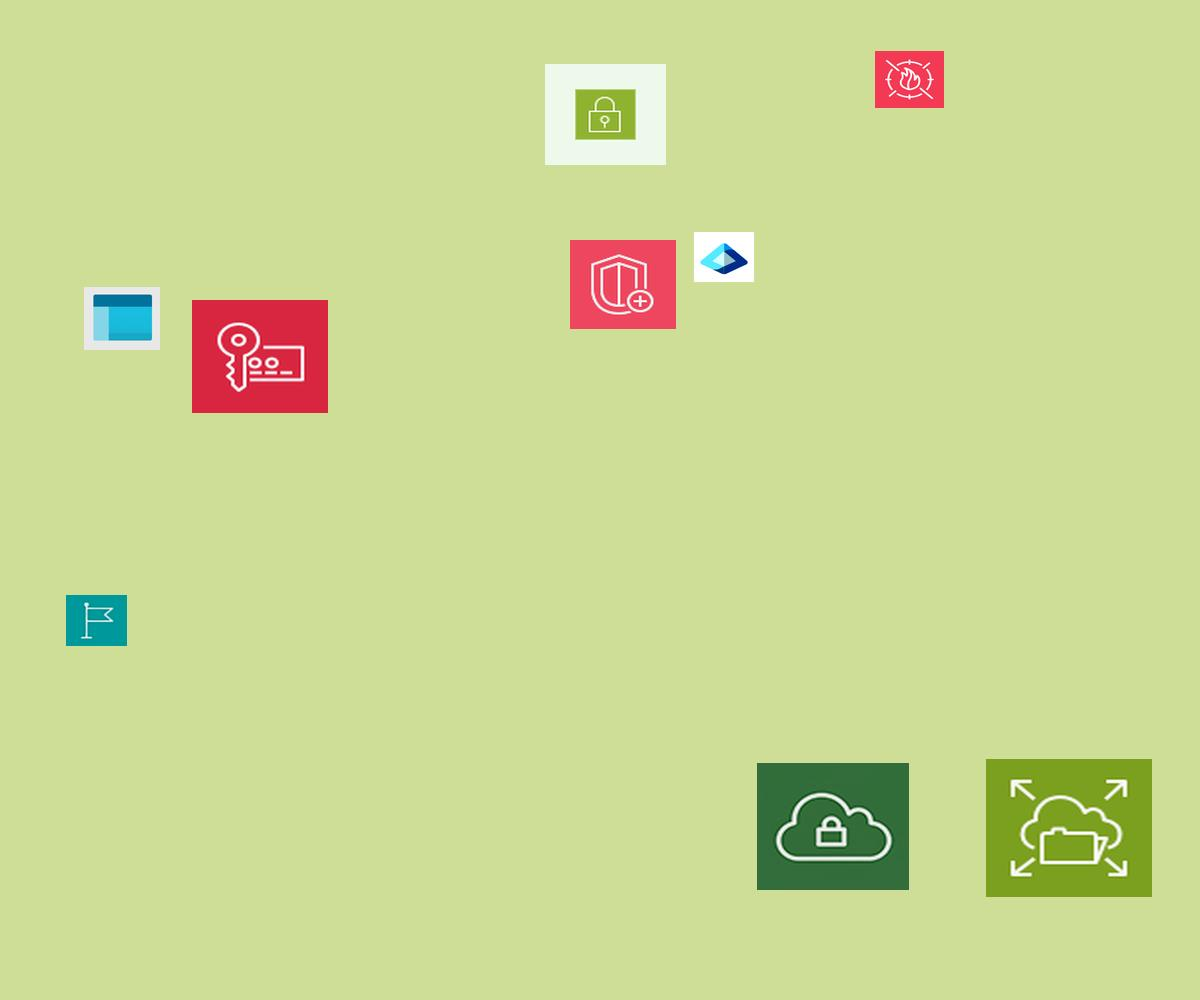AWS-EFS: (986, 759, 1152, 897)
AWS-Key-Management-Service: (192, 300, 328, 413)
AWS-Private_vpc: (757, 763, 909, 890)
AWS-Public-subnet: (545, 64, 666, 165)
AWS-Region: (66, 595, 127, 646)
AWS-Shield: (570, 240, 676, 329)
AWS-WAF: (875, 51, 944, 108)
Azure_management-portal: (84, 287, 160, 350)
Azure_microsoft_entra: (694, 232, 754, 282)
